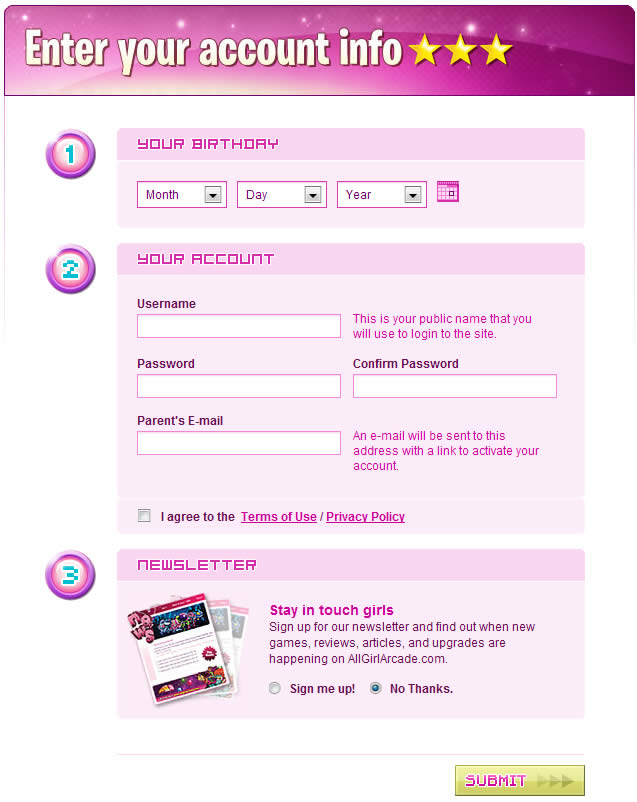_form_: (124, 117, 540, 534), (189, 386, 605, 802)
button: (453, 763, 587, 797)
checkbox: (138, 507, 155, 523)
checkbox_with_label: (134, 504, 407, 526)
field: (349, 371, 559, 399), (133, 428, 341, 456), (135, 372, 342, 400), (135, 311, 341, 339)
field_with_label: (132, 357, 344, 402), (133, 296, 344, 341), (351, 357, 561, 401), (131, 415, 344, 458)
radio: (369, 680, 385, 697), (266, 681, 285, 695)
radio_with_label: (365, 676, 452, 700), (262, 677, 356, 696)
select: (136, 180, 228, 209), (235, 180, 327, 209), (336, 180, 428, 209)
